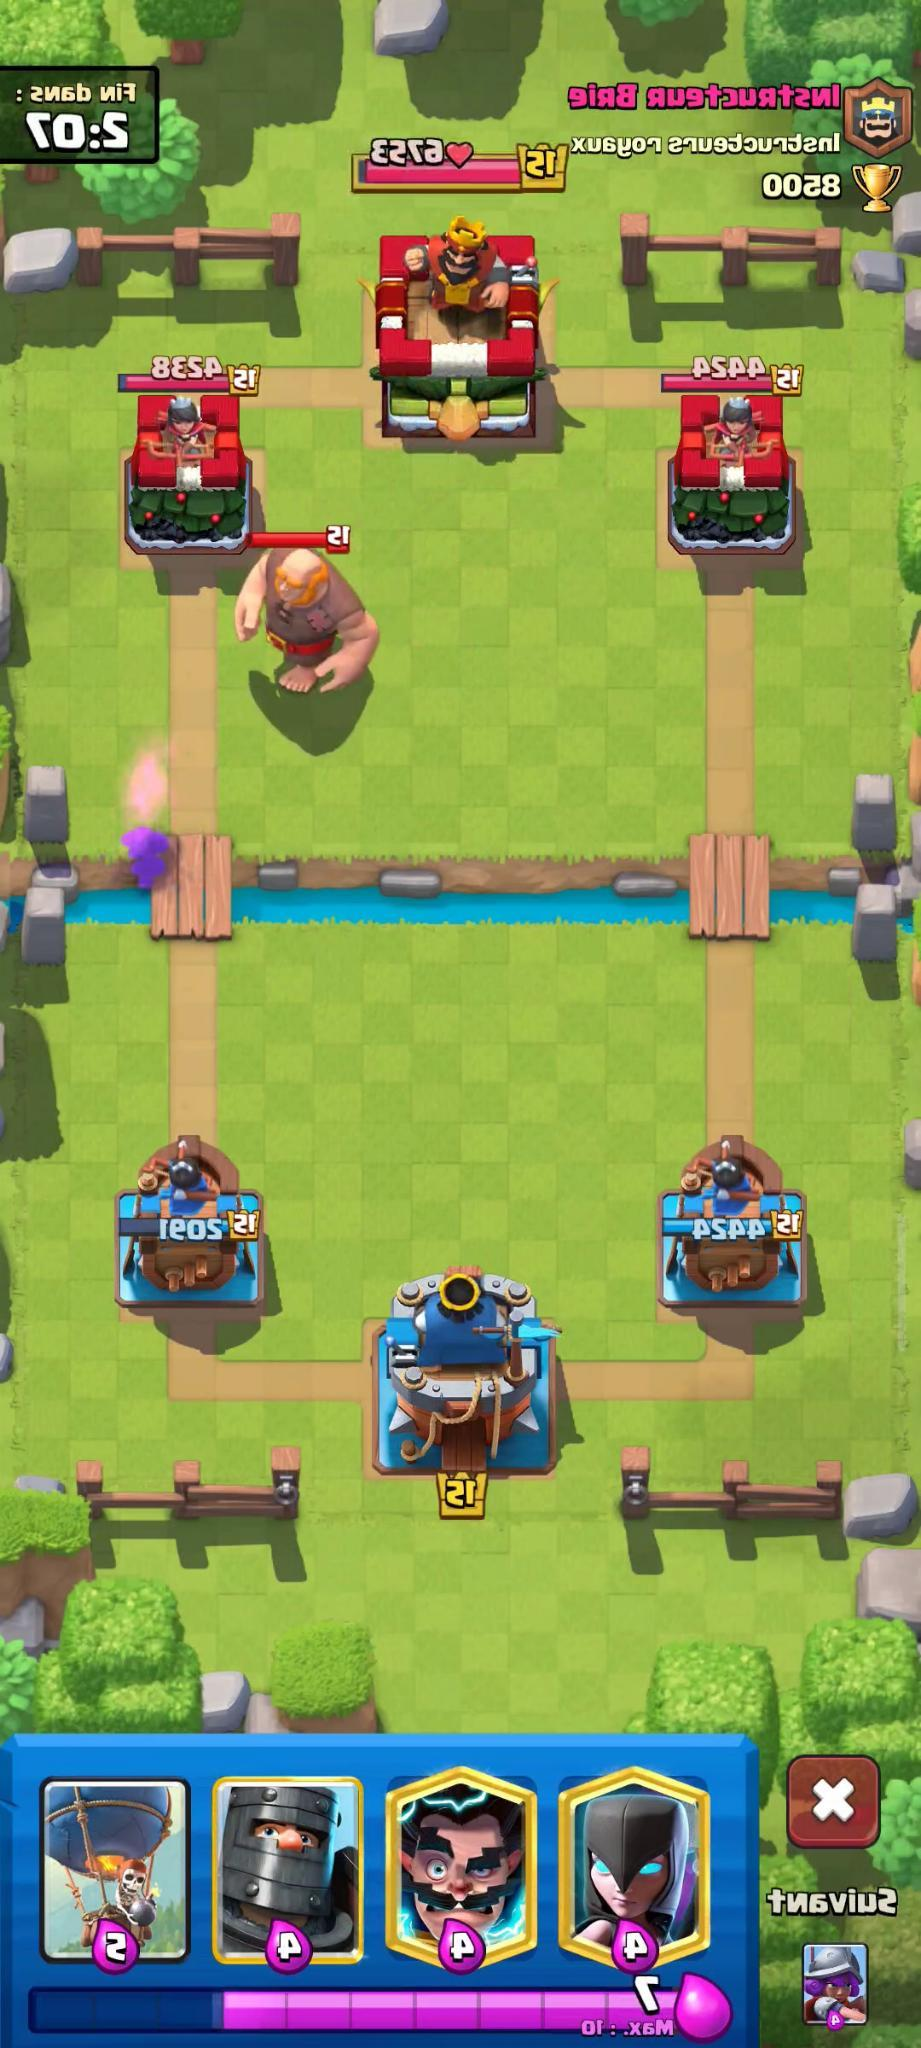enemy_giant: (229, 526, 385, 707)
